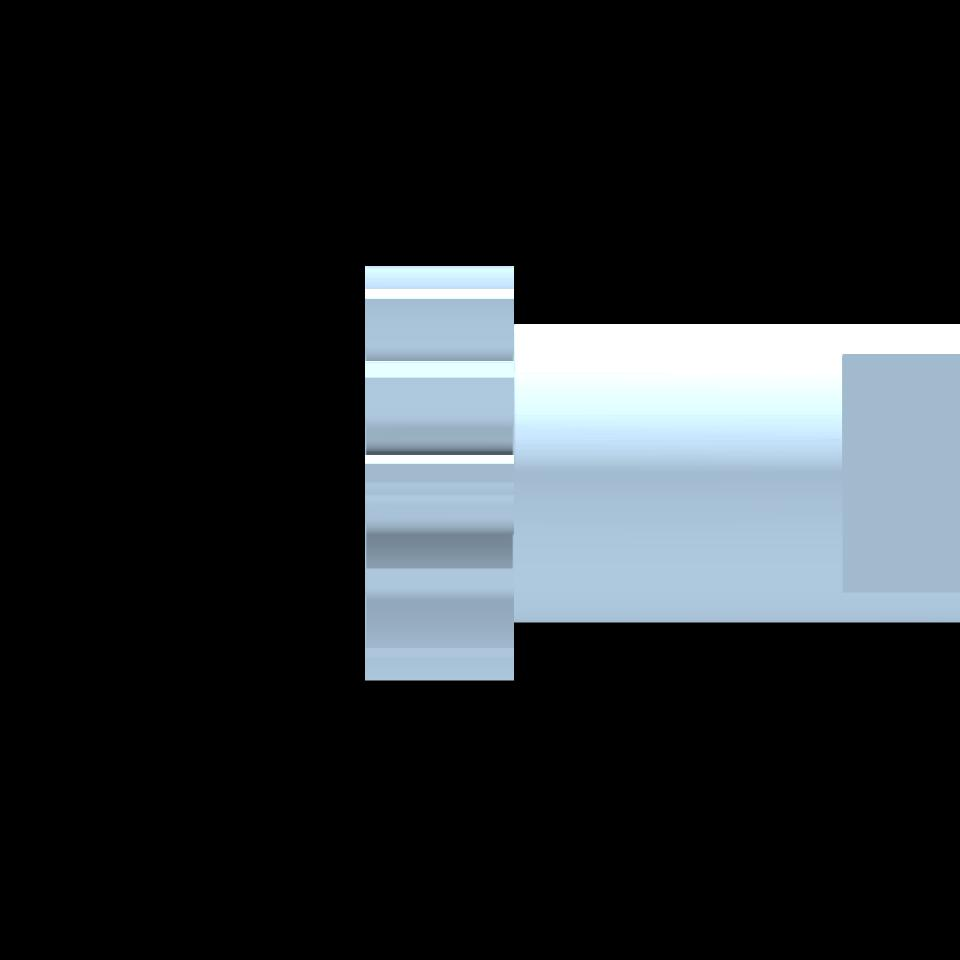Straight: (365, 266, 513, 680)
